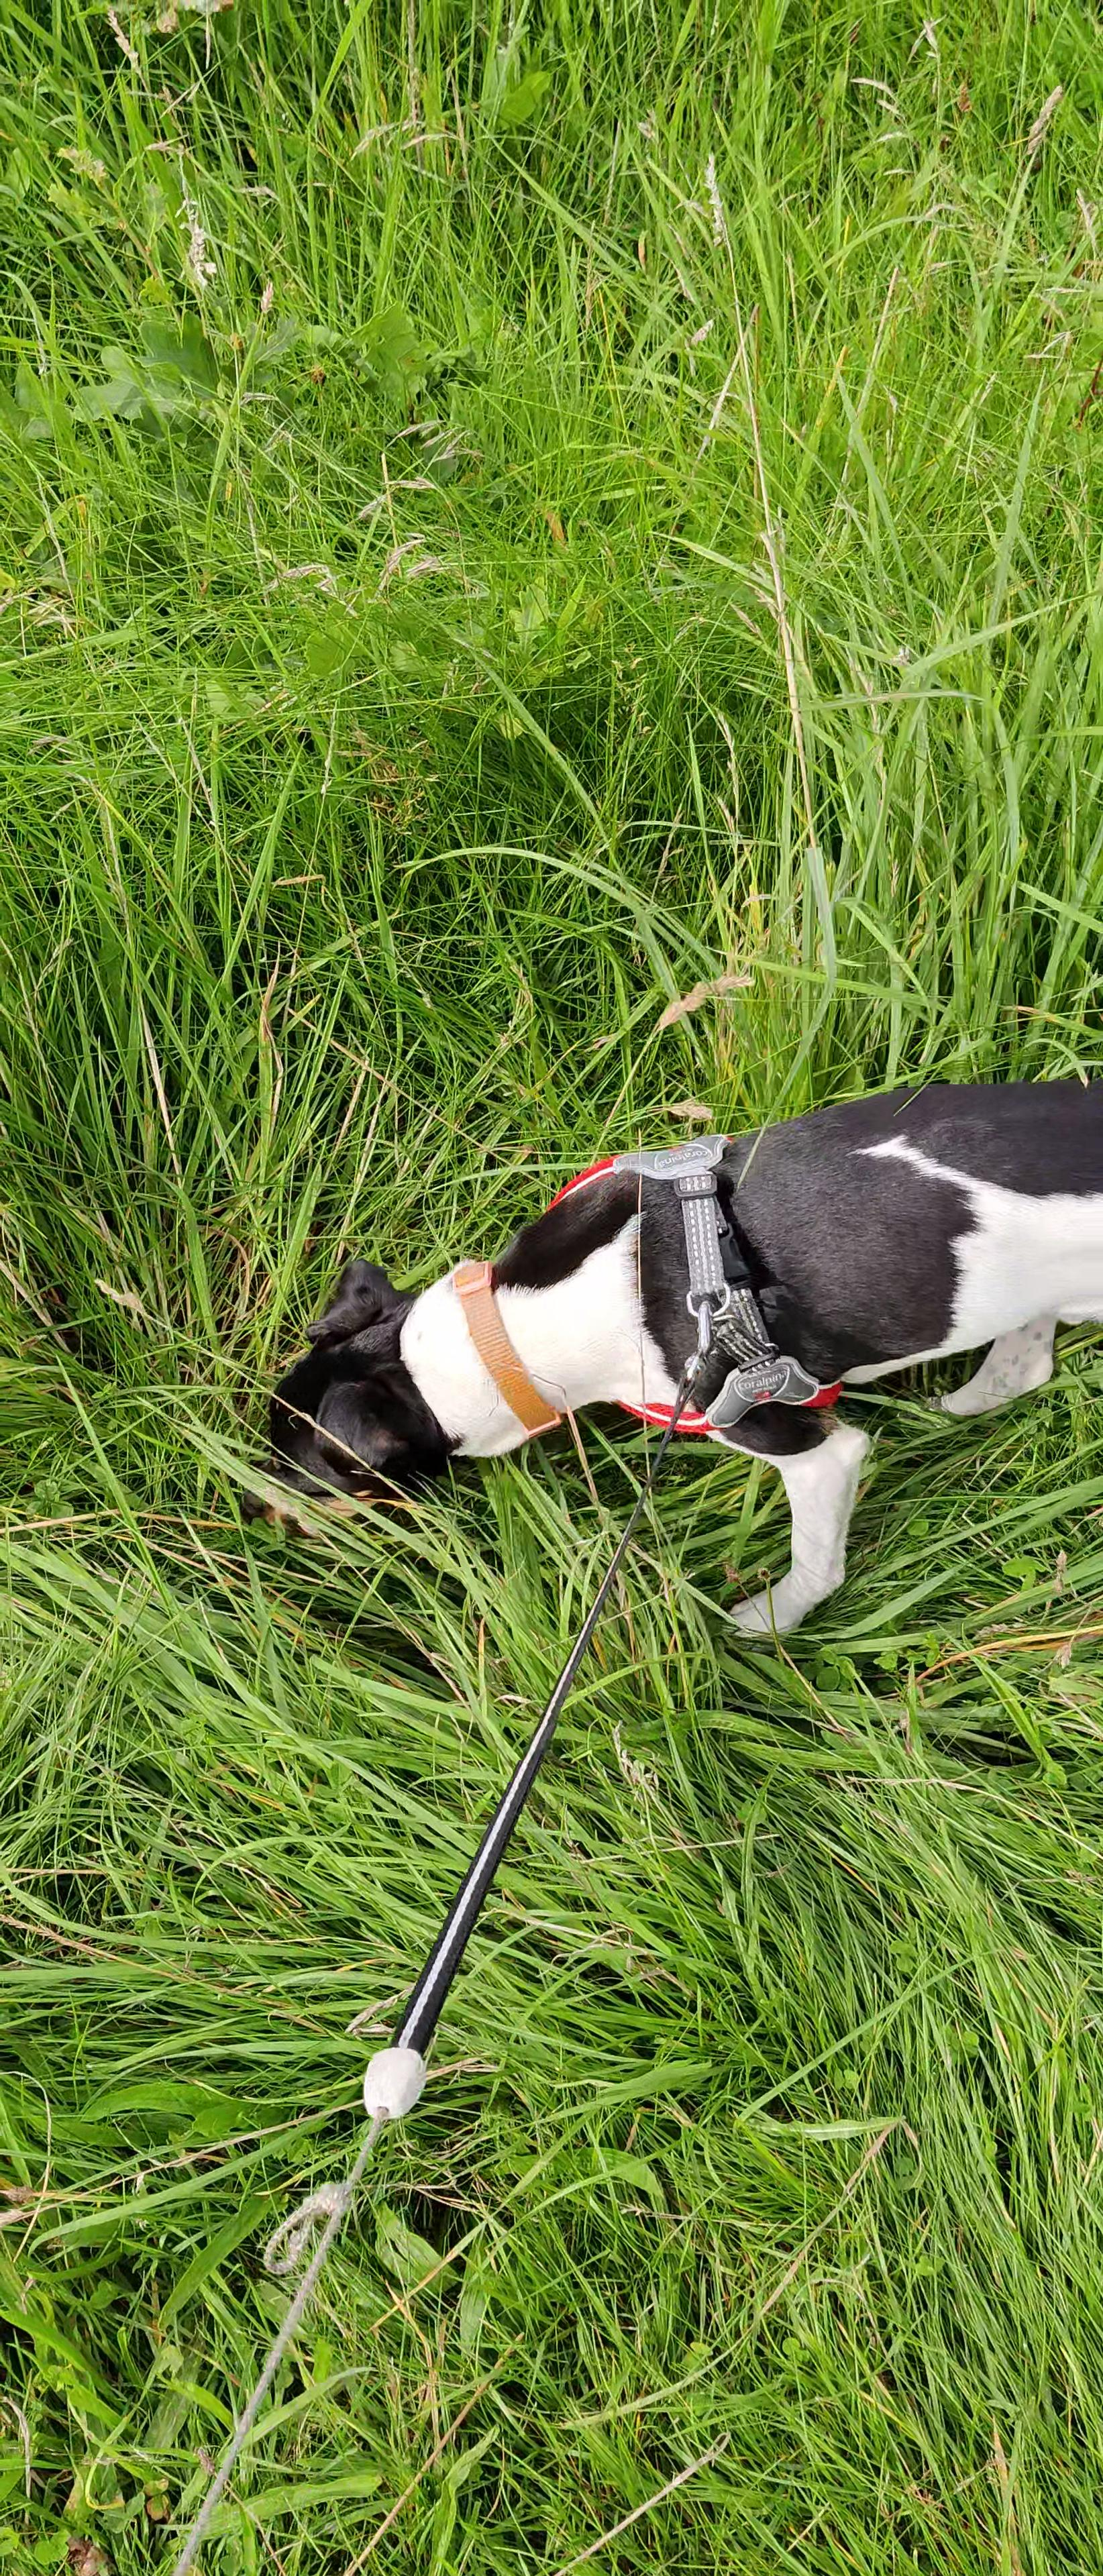Dog: (225, 1015, 1103, 1684)
